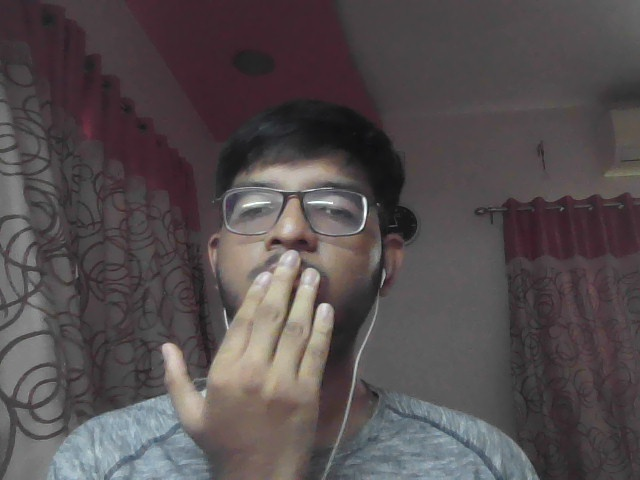આભાર: (152, 250, 339, 480)
